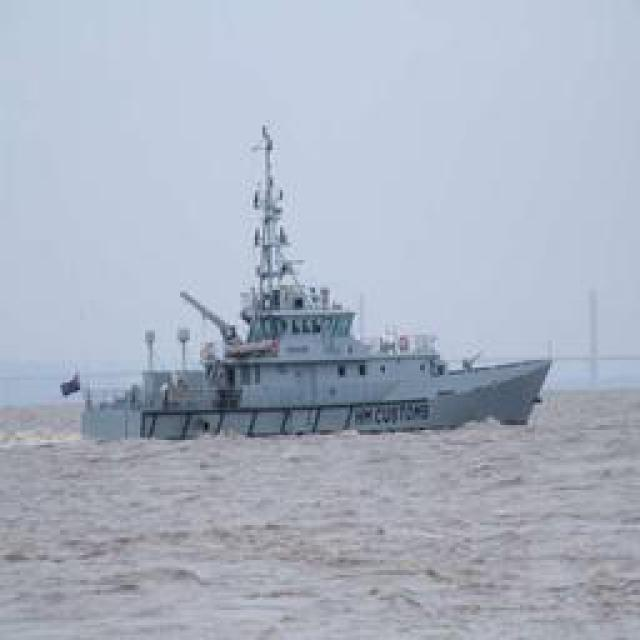Ship: (133, 113, 551, 438)
